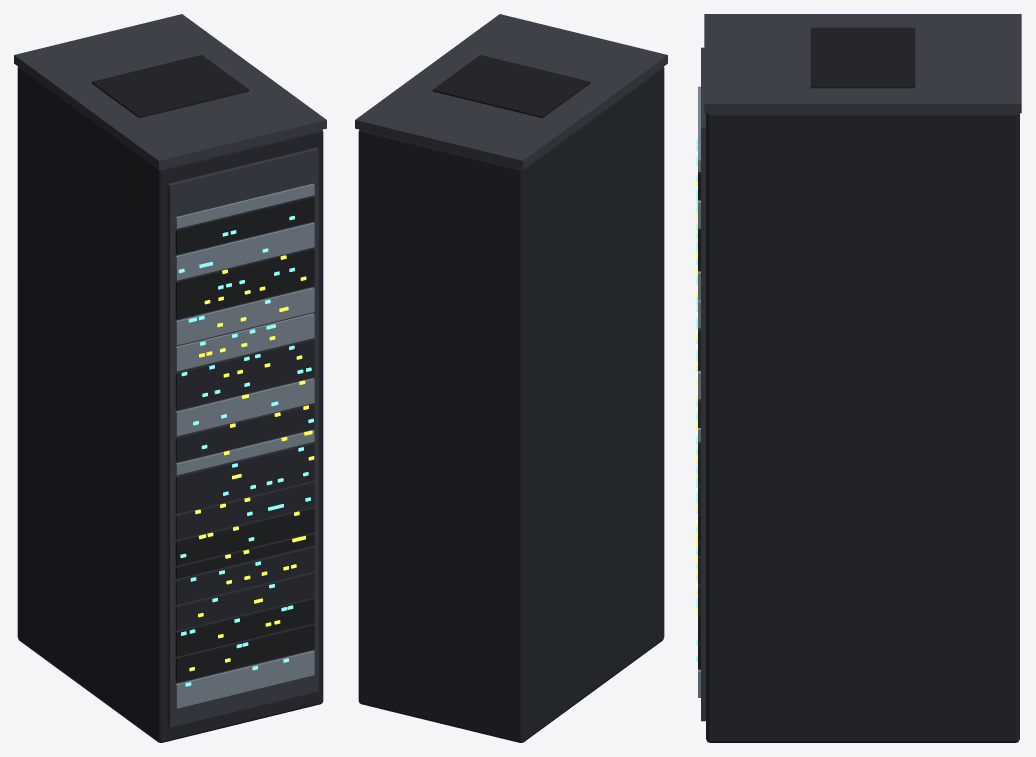
File: ServerRack.fbx
The picture shows the model from 3 angles, left to right: view 1: azimuth 30°, elevation 25°; view 2: azimuth 150°, elevation 25°; view 3: azimuth 270°, elevation 25°; orthographic projection. The views are drawn at different scales.
Visible parts, largest first — view 1: ServerRackBody, Leds, LedsB; view 2: ServerRackBody; view 3: ServerRackBody.
Part boxes in pixels (x1,y1,x2,y2): ServerRackBody: (14,14,326,742); Leds: (178,216,313,686); LedsB: (189,255,314,671); ServerRackBody: (355,14,667,742); ServerRackBody: (698,14,1021,742).
Bounding box in the file's own units: 0.61 × 2.04 × 0.933.
